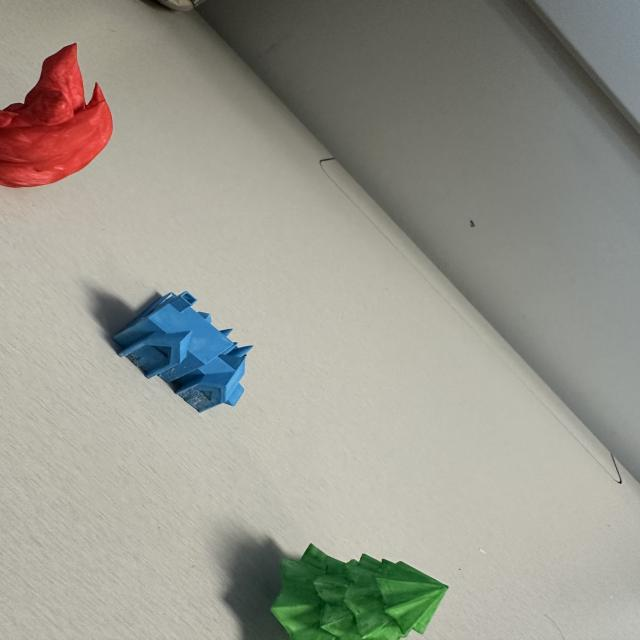fire: (1, 41, 116, 189)
house: (109, 288, 255, 414)
tree: (268, 541, 450, 638)
